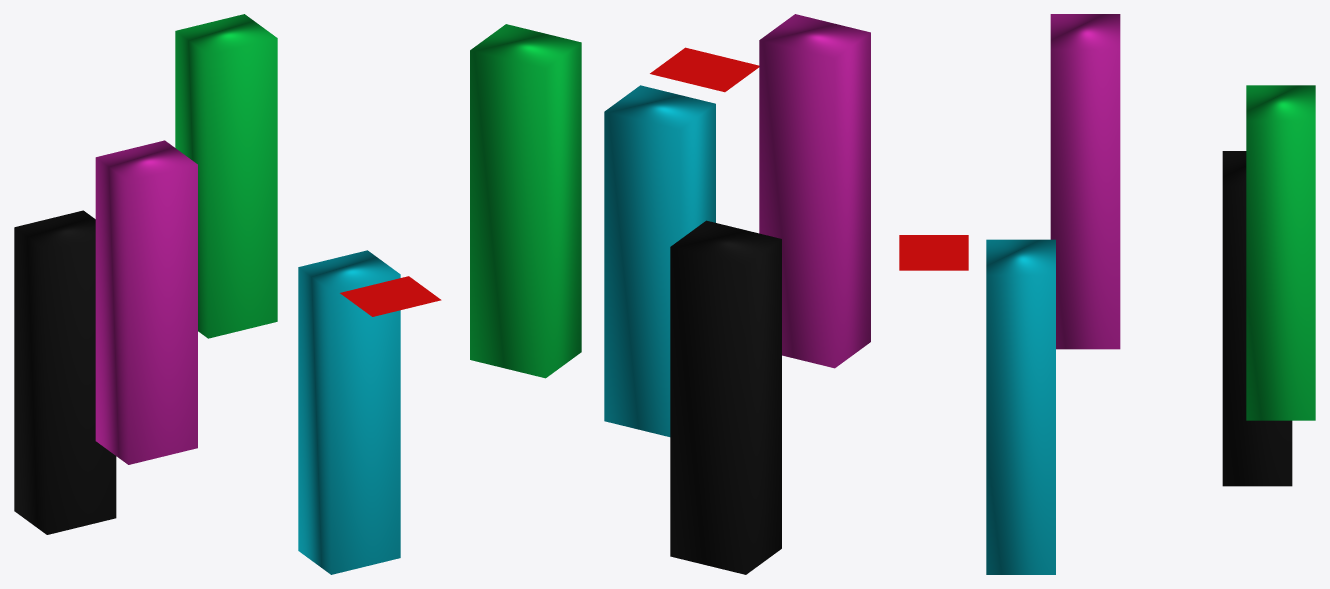
The model's file is AudioVisualisation.gltf.
The picture shows the model from 3 angles, left to right: view 1: azimuth 30°, elevation 25°; view 2: azimuth 150°, elevation 25°; view 3: azimuth 270°, elevation 25°; orthographic projection. The views are drawn at different scales.
Visible parts, largest first — view 1: Cube.001, Cube.002, Cube.004, Cube, Cube.003; view 2: Cube.004, Cube, Cube.001, Cube.002, Cube.003; view 3: Cube.002, Cube.004, Cube.001, Cube, Cube.003.
Part boxes in pixels (box(x1,y1,x2,y2)): Cube.001: box(95, 140, 197, 464); Cube.002: box(298, 250, 400, 574); Cube.004: box(175, 14, 277, 338); Cube: box(14, 210, 116, 534); Cube.003: box(340, 276, 441, 316); Cube.004: box(470, 24, 581, 378); Cube: box(670, 220, 781, 574); Cube.001: box(759, 14, 870, 368); Cube.002: box(604, 85, 715, 436); Cube.003: box(650, 47, 759, 92); Cube.002: box(986, 239, 1055, 574); Cube.004: box(1246, 85, 1315, 420); Cube.001: box(1050, 14, 1120, 349); Cube: box(1222, 151, 1292, 486); Cube.003: box(899, 235, 968, 270).
Bounding box in the file's own units: 5.43 × 9.23 × 7.67.
